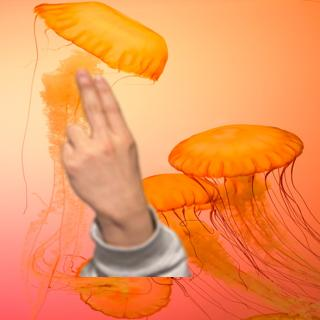DHAVE: (58, 63, 150, 223)
